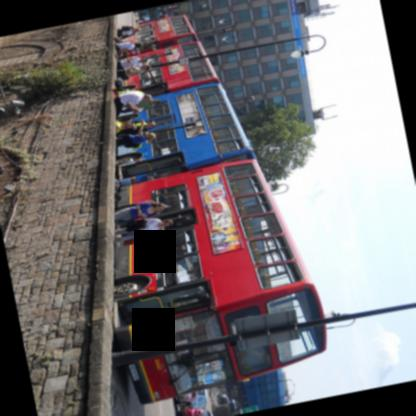backpack: (119, 142, 139, 150), (114, 81, 123, 92)
handbag: (122, 227, 162, 246), (116, 69, 140, 81), (115, 220, 130, 225), (115, 47, 120, 57), (120, 24, 127, 31), (130, 216, 142, 220), (115, 27, 120, 30)
